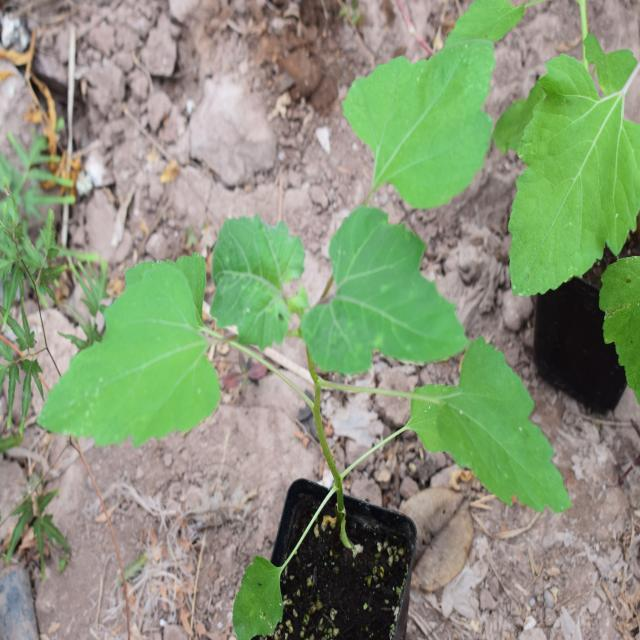cocklebur: (46, 75, 536, 489)
